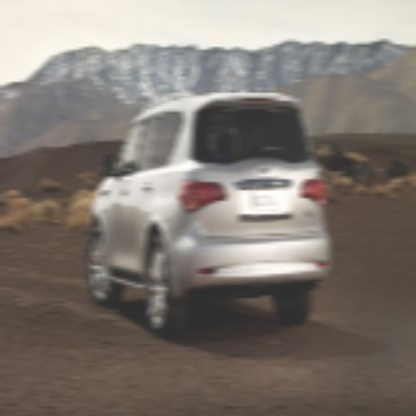Vehicle: (85, 89, 333, 340)
